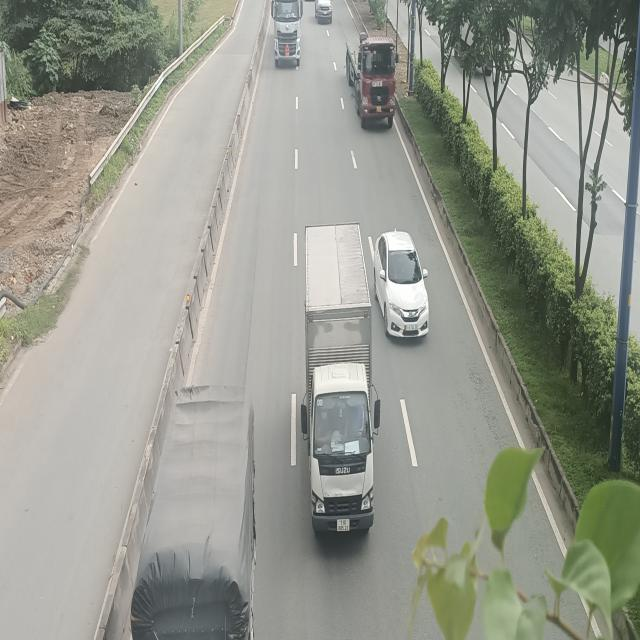car: (373, 228, 429, 340)
container: (273, 0, 304, 65)
truck: (111, 388, 255, 640), (303, 227, 387, 544), (345, 32, 398, 130)
